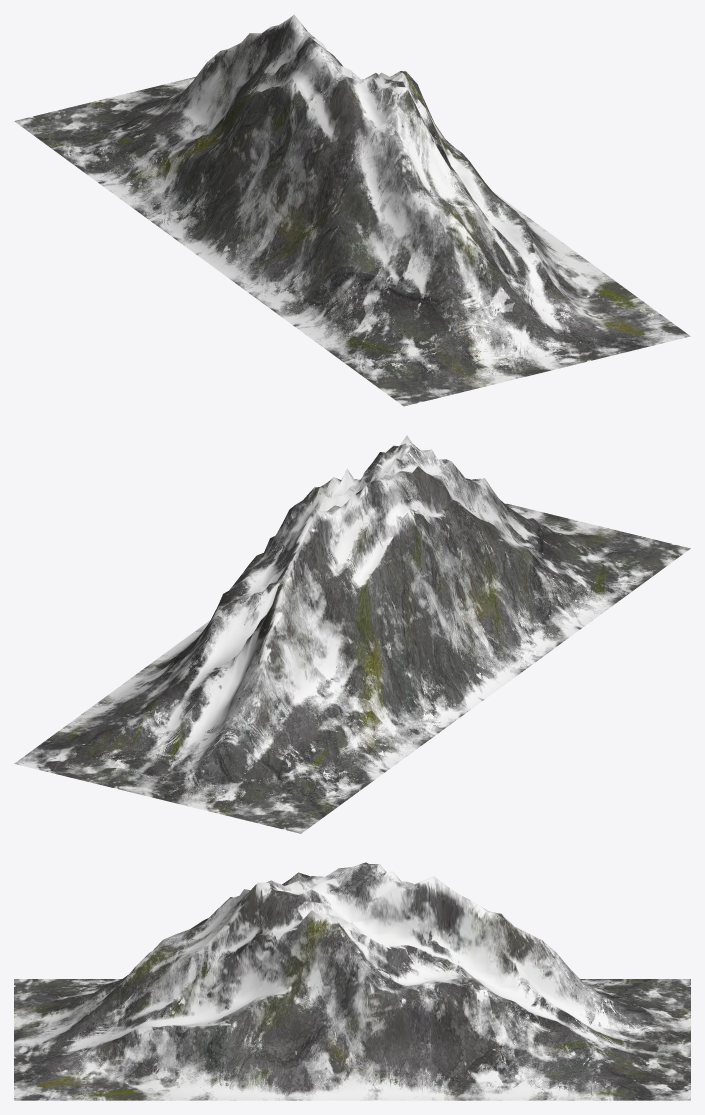
Rendered from mountain1.glb.
The picture shows the model from 3 angles, top to bottom: view 1: azimuth 30°, elevation 25°; view 2: azimuth 150°, elevation 25°; view 3: azimuth 270°, elevation 25°; orthographic projection. The views are drawn at different scales.
Parts seen in each view (by area): view 1: Object_2; view 2: Object_2; view 3: Object_2.
Part boxes in pixels (box(x1,y1,x2,y2)): Object_2: box(14, 14, 690, 406); Object_2: box(14, 435, 690, 833); Object_2: box(14, 862, 690, 1100).
Size of the model in its own units: 600 by 376 by 1411.
1 material, 1 textured.
